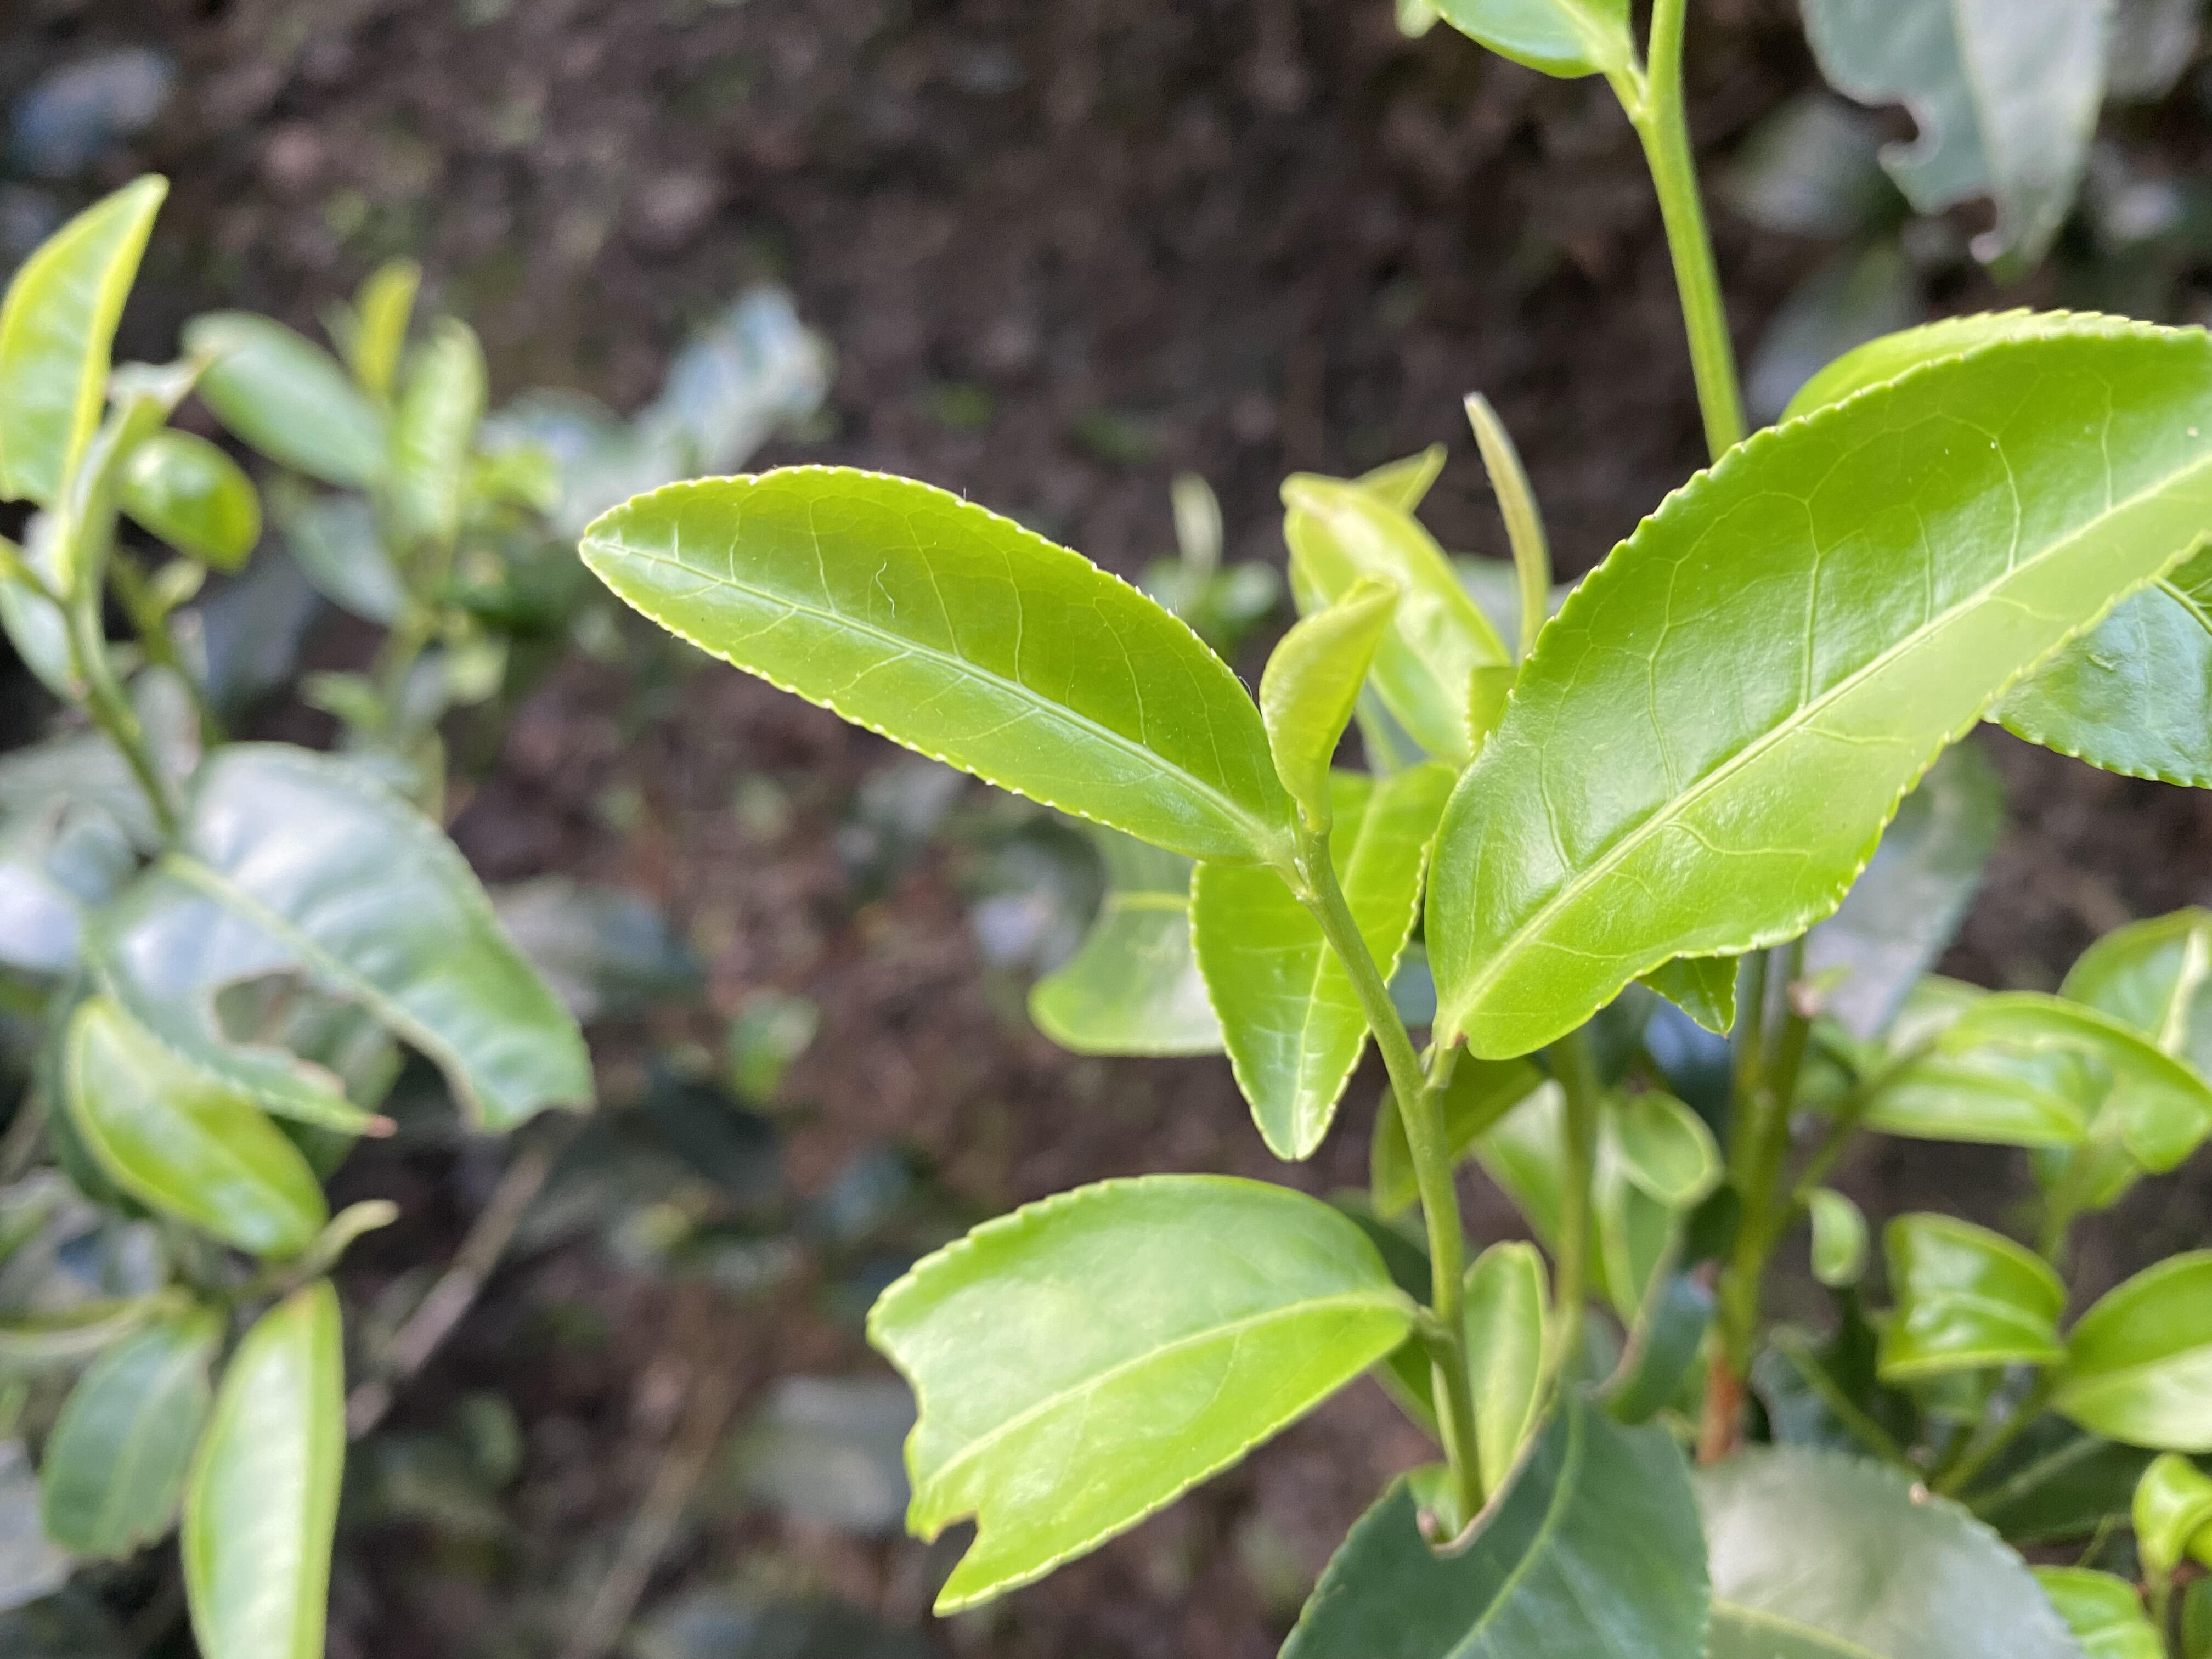chihuo_high: (860, 1166, 1416, 1619), (82, 737, 601, 1147)
healthy: (1425, 329, 2207, 1066), (573, 460, 1308, 866), (1184, 756, 1456, 1166)
